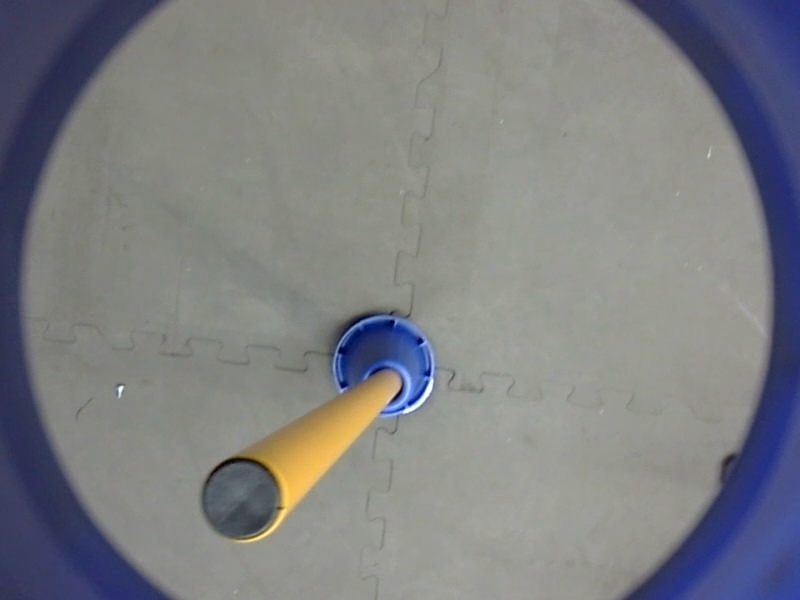tip: (194, 454, 291, 549)
